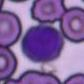L: (22, 26, 64, 62)
